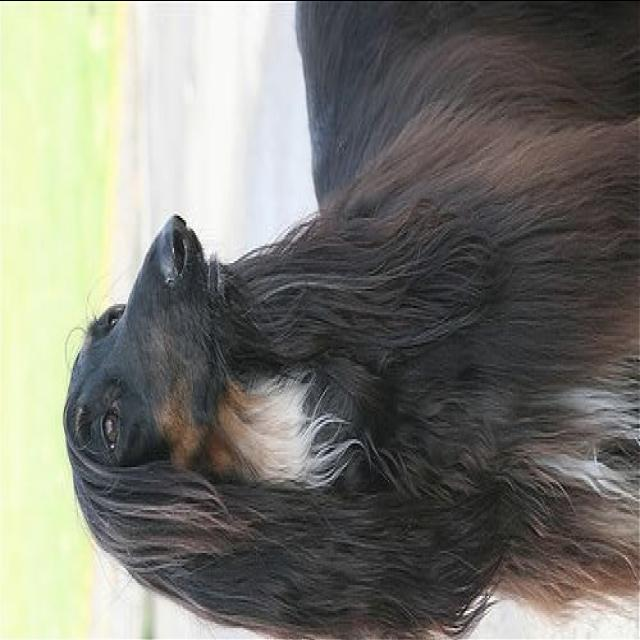afghan_hound: (60, 0, 638, 636)
